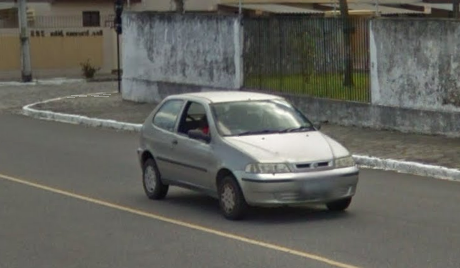car: (130, 86, 361, 224)
